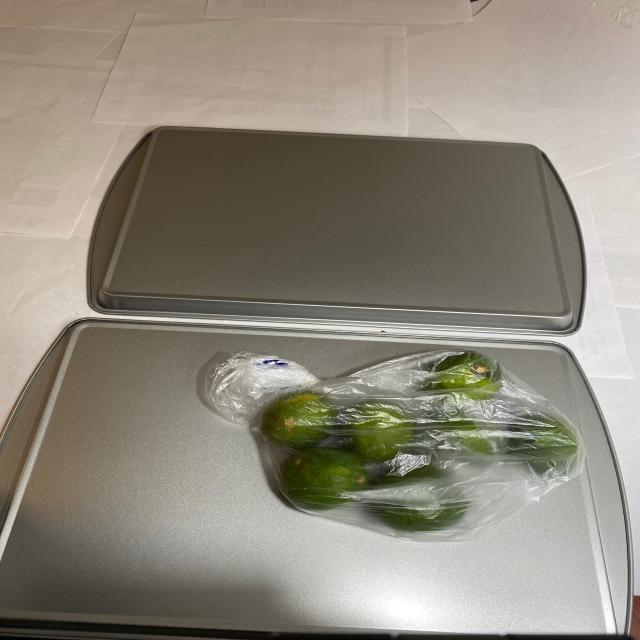lemon: (240, 356, 582, 530)
